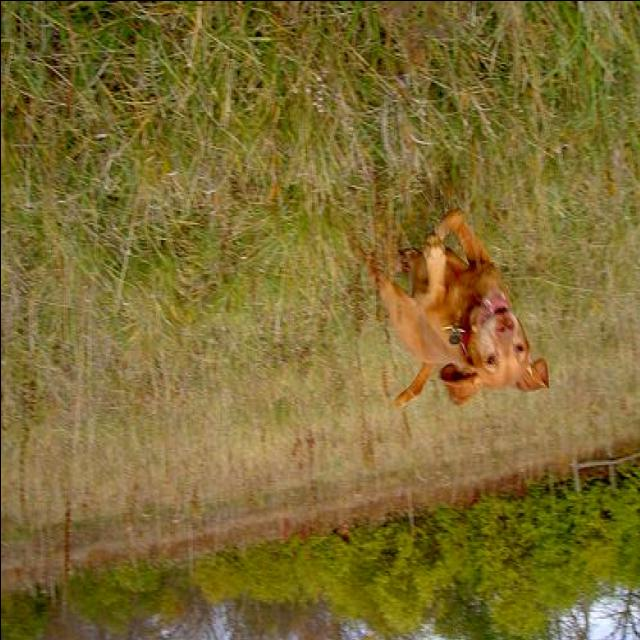vizsla: (342, 210, 550, 408)
